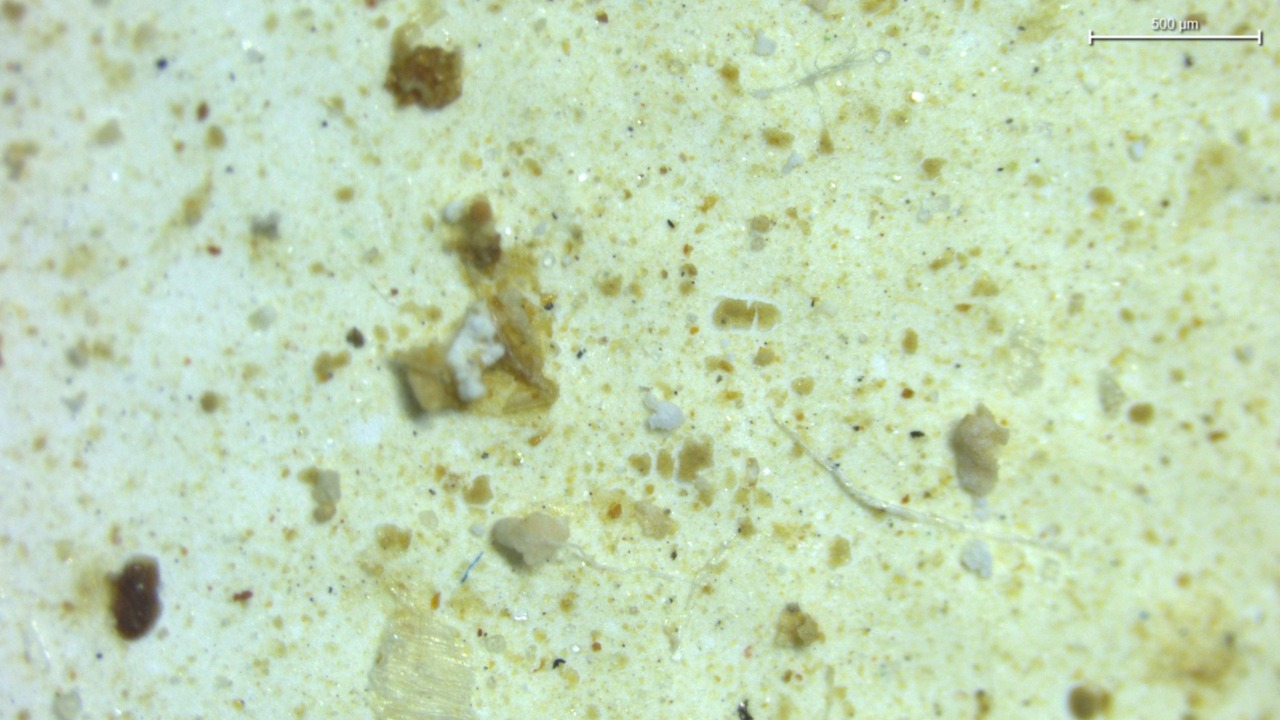microplastic_fragment: (368, 586, 477, 720), (446, 302, 506, 402), (951, 404, 1007, 497), (491, 511, 569, 568), (300, 470, 341, 523), (643, 392, 684, 431), (961, 541, 992, 577)
